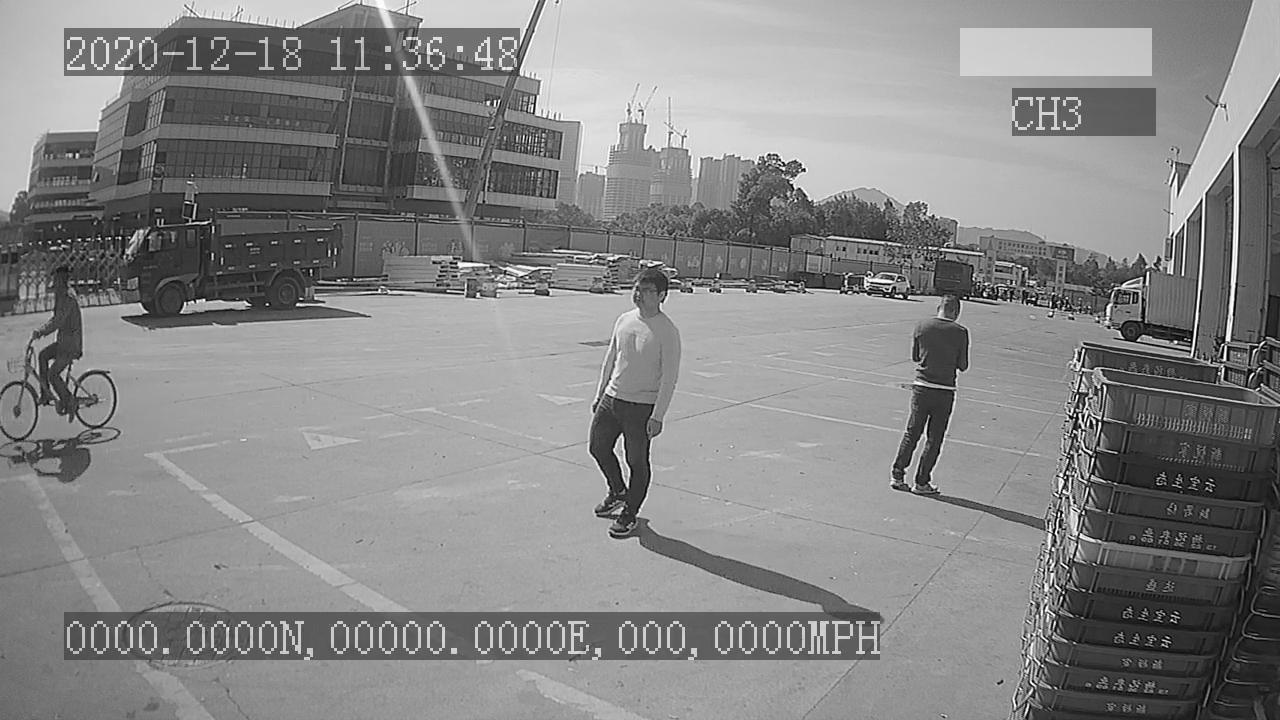person: (573, 258, 685, 540), (888, 291, 973, 497)
